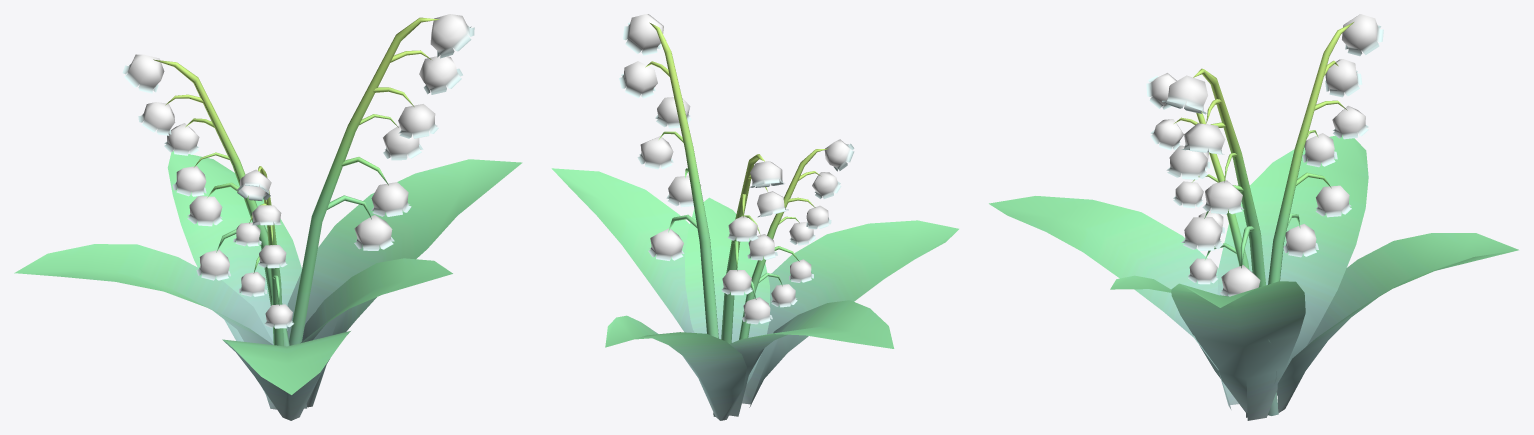
Rendered from Flower.006_Base_Material_0.fbx.
The picture shows the model from 3 angles, left to right: view 1: azimuth 30°, elevation 25°; view 2: azimuth 150°, elevation 25°; view 3: azimuth 270°, elevation 25°; orthographic projection. The views are drawn at different scales.
Visible parts, largest first — view 1: Flower.006_Base_Material_0_export; view 2: Flower.006_Base_Material_0_export; view 3: Flower.006_Base_Material_0_export.
Part boxes in pixels (x1,y1,x2,y2): Flower.006_Base_Material_0_export: (14,14,522,420); Flower.006_Base_Material_0_export: (551,14,958,420); Flower.006_Base_Material_0_export: (989,14,1518,420).
Size of the model in its own units: 3.91 by 3.25 by 3.92.
